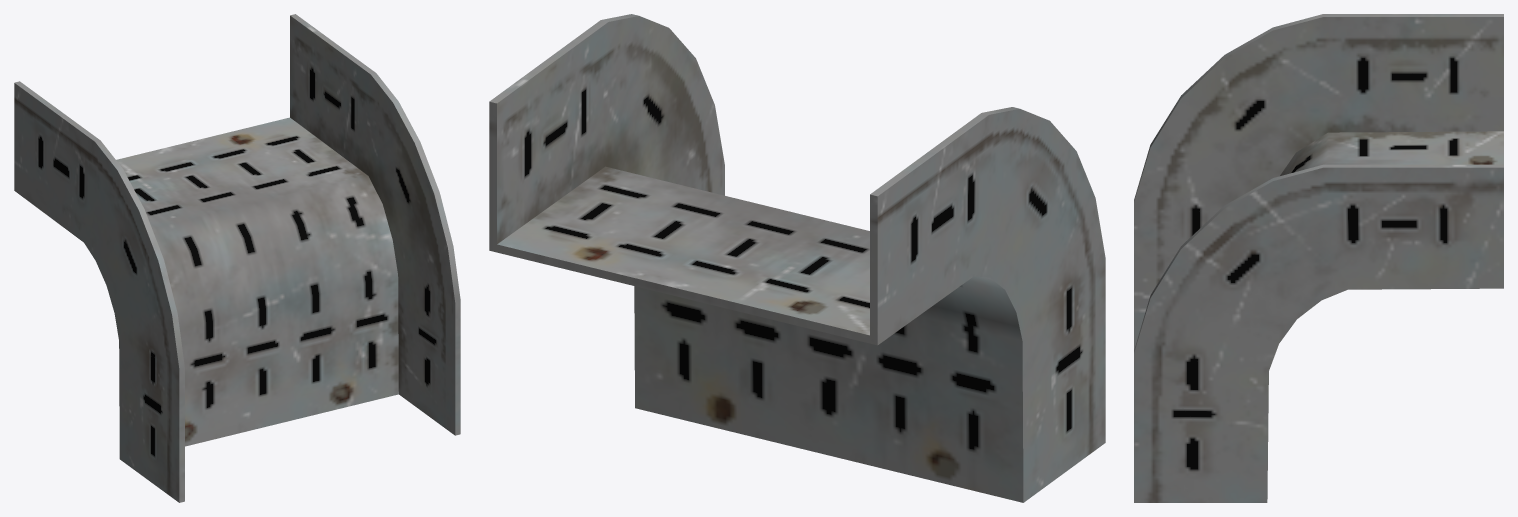
Rendered from CableTray_07a_snaps019.fbx.
The picture shows the model from 3 angles, left to right: view 1: azimuth 30°, elevation 25°; view 2: azimuth 150°, elevation 25°; view 3: azimuth 270°, elevation 25°; orthographic projection. The views are drawn at different scales.
Visible parts, largest first — view 1: CableTray_07a_snaps019_LOD0; view 2: CableTray_07a_snaps019_LOD0; view 3: CableTray_07a_snaps019_LOD0.
Part boxes in pixels (left/top/right/bottom): CableTray_07a_snaps019_LOD0: left=14, top=14, right=460, bottom=502; CableTray_07a_snaps019_LOD0: left=489, top=14, right=1105, bottom=502; CableTray_07a_snaps019_LOD0: left=1134, top=14, right=1503, bottom=502.
Size of what is drawn, in the model's own units: 15 by 15.25 by 15.25.
